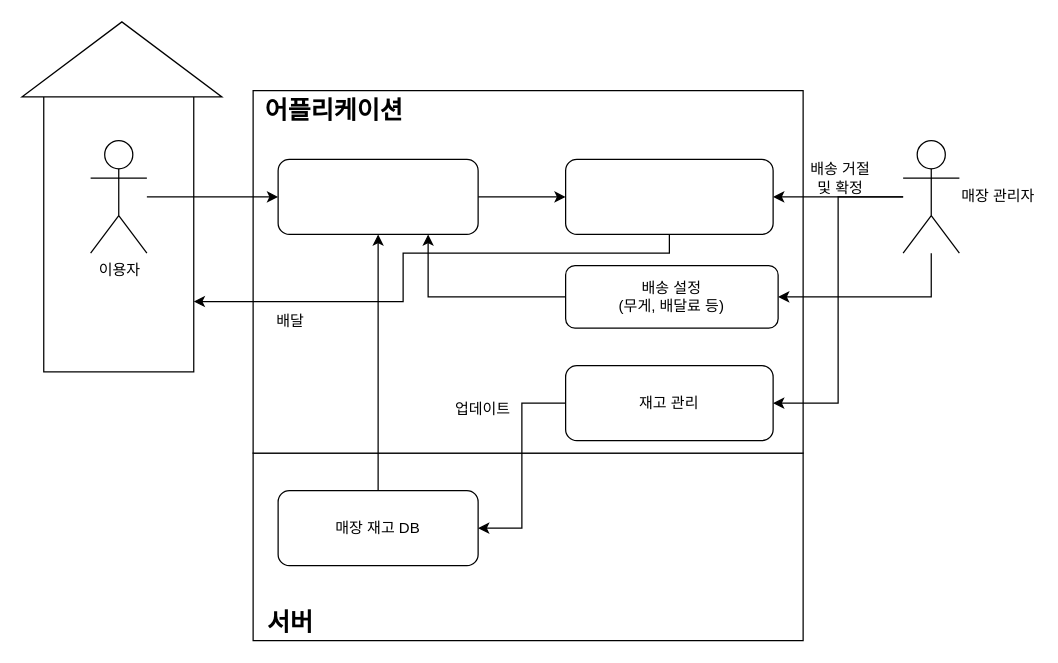
Image size: 1058x663. Some labels were removed from this diagram. The centre of each missing label's shape, as x and y in pixels:
배송 요청: the point at 668,196
원하는 물품 선택: the point at 377,196
